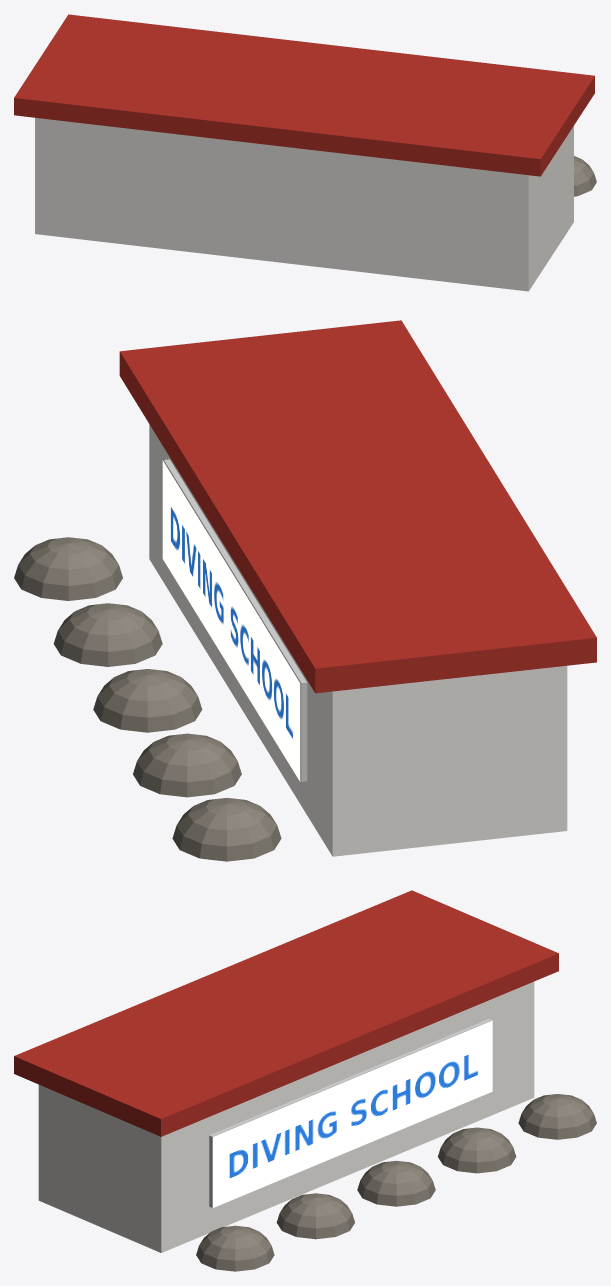
Rendered from divingschool.glb.
The picture shows the model from 3 angles, top to bottom: view 1: azimuth 30°, elevation 25°; view 2: azimuth 150°, elevation 25°; view 3: azimuth 270°, elevation 25°; orthographic projection. The views are drawn at different scales.
Parts seen in each view (by area): view 1: divingschool_lod0; view 2: divingschool_lod0; view 3: divingschool_lod0.
Boxes of the visible parts, box(x1,y1,x2,y2) form: divingschool_lod0: box(14, 14, 596, 291); divingschool_lod0: box(14, 320, 596, 861); divingschool_lod0: box(14, 890, 596, 1271).
Size of what is drawn, in the model's own units: 13.3 by 3.65 by 13.35.
Materials: 5 (1 with a texture image).
